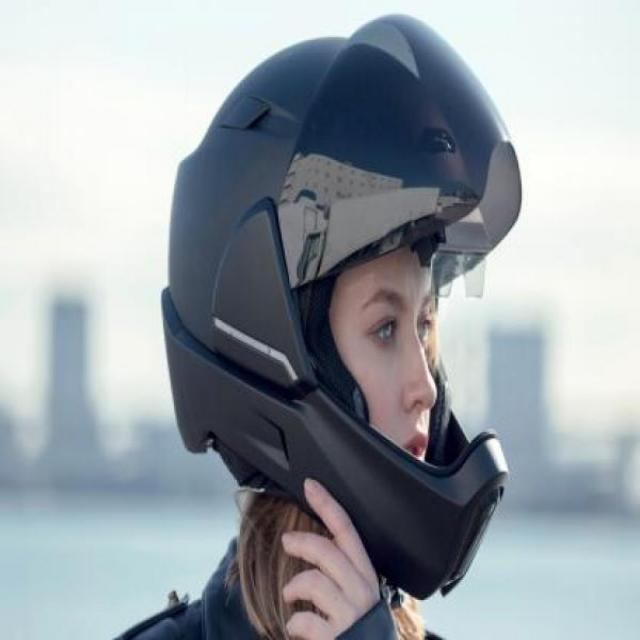Helmet: (162, 26, 521, 588)
